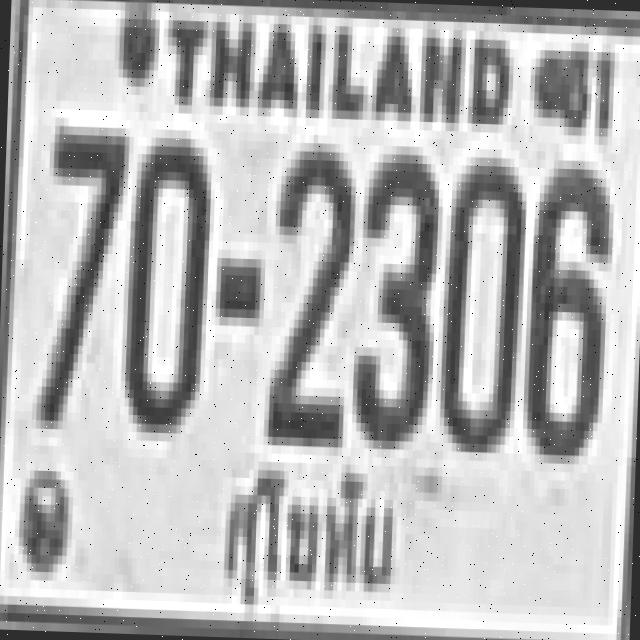0: (434, 148, 524, 444), (119, 128, 208, 425)
2: (268, 138, 352, 434)
3: (346, 144, 436, 442)
6: (522, 159, 606, 456)
7: (36, 116, 126, 422)
Sukhothai: (210, 450, 408, 638)
